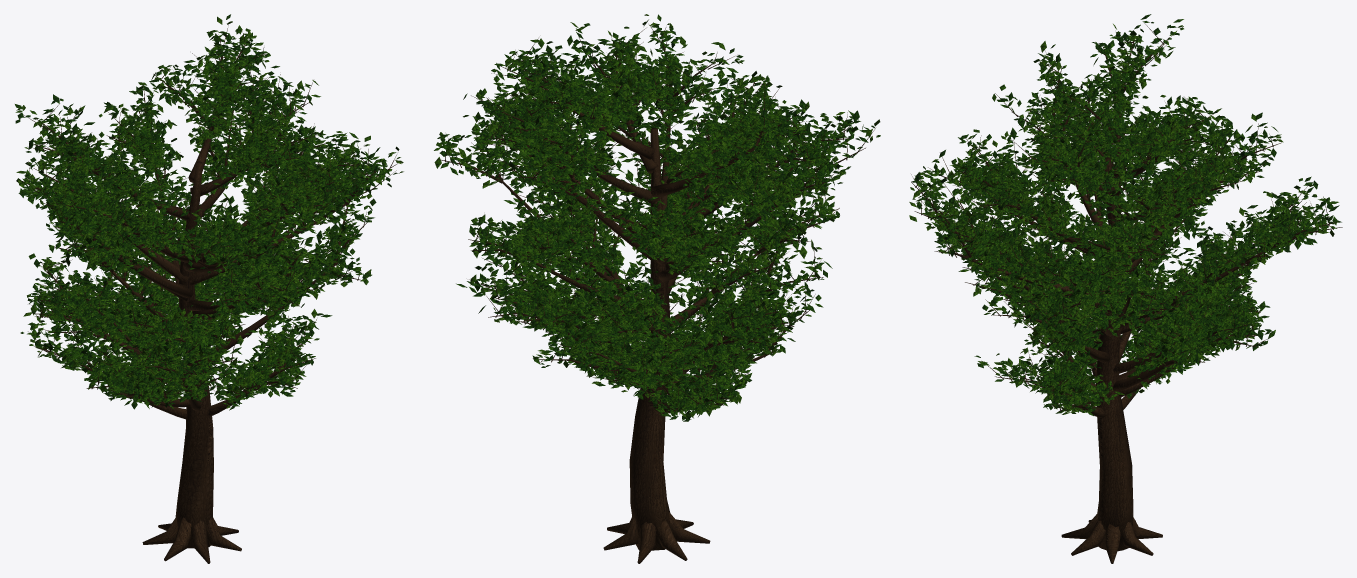
Rendered from broadleaf-textured-v03.glb.
The picture shows the model from 3 angles, left to right: view 1: azimuth 30°, elevation 25°; view 2: azimuth 150°, elevation 25°; view 3: azimuth 270°, elevation 25°; orthographic projection. The views are drawn at different scales.
Parts seen in each view (by area): view 1: Tree | individual folded leaves, Tree | trunk, roots and branching structure; view 2: Tree | individual folded leaves, Tree | trunk, roots and branching structure; view 3: Tree | individual folded leaves, Tree | trunk, roots and branching structure.
Part boxes in pixels (x1,y1,x2,y2): Tree | individual folded leaves: (15,14,403,410); Tree | trunk, roots and branching structure: (22,24,397,563); Tree | individual folded leaves: (434,14,880,421); Tree | trunk, roots and branching structure: (437,26,875,563); Tree | individual folded leaves: (909,14,1341,415); Tree | trunk, roots and branching structure: (911,23,1342,563).
Bounding box in the file's own units: 7.11 × 8.67 × 7.16.
Materials: 6 (6 with a texture image).
